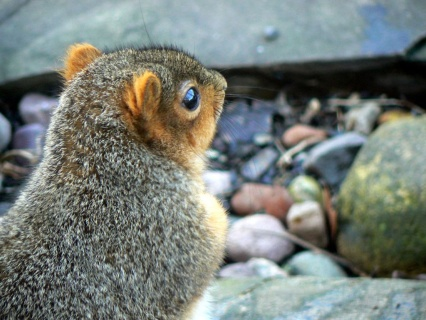Squirrel: (0, 19, 273, 319)
